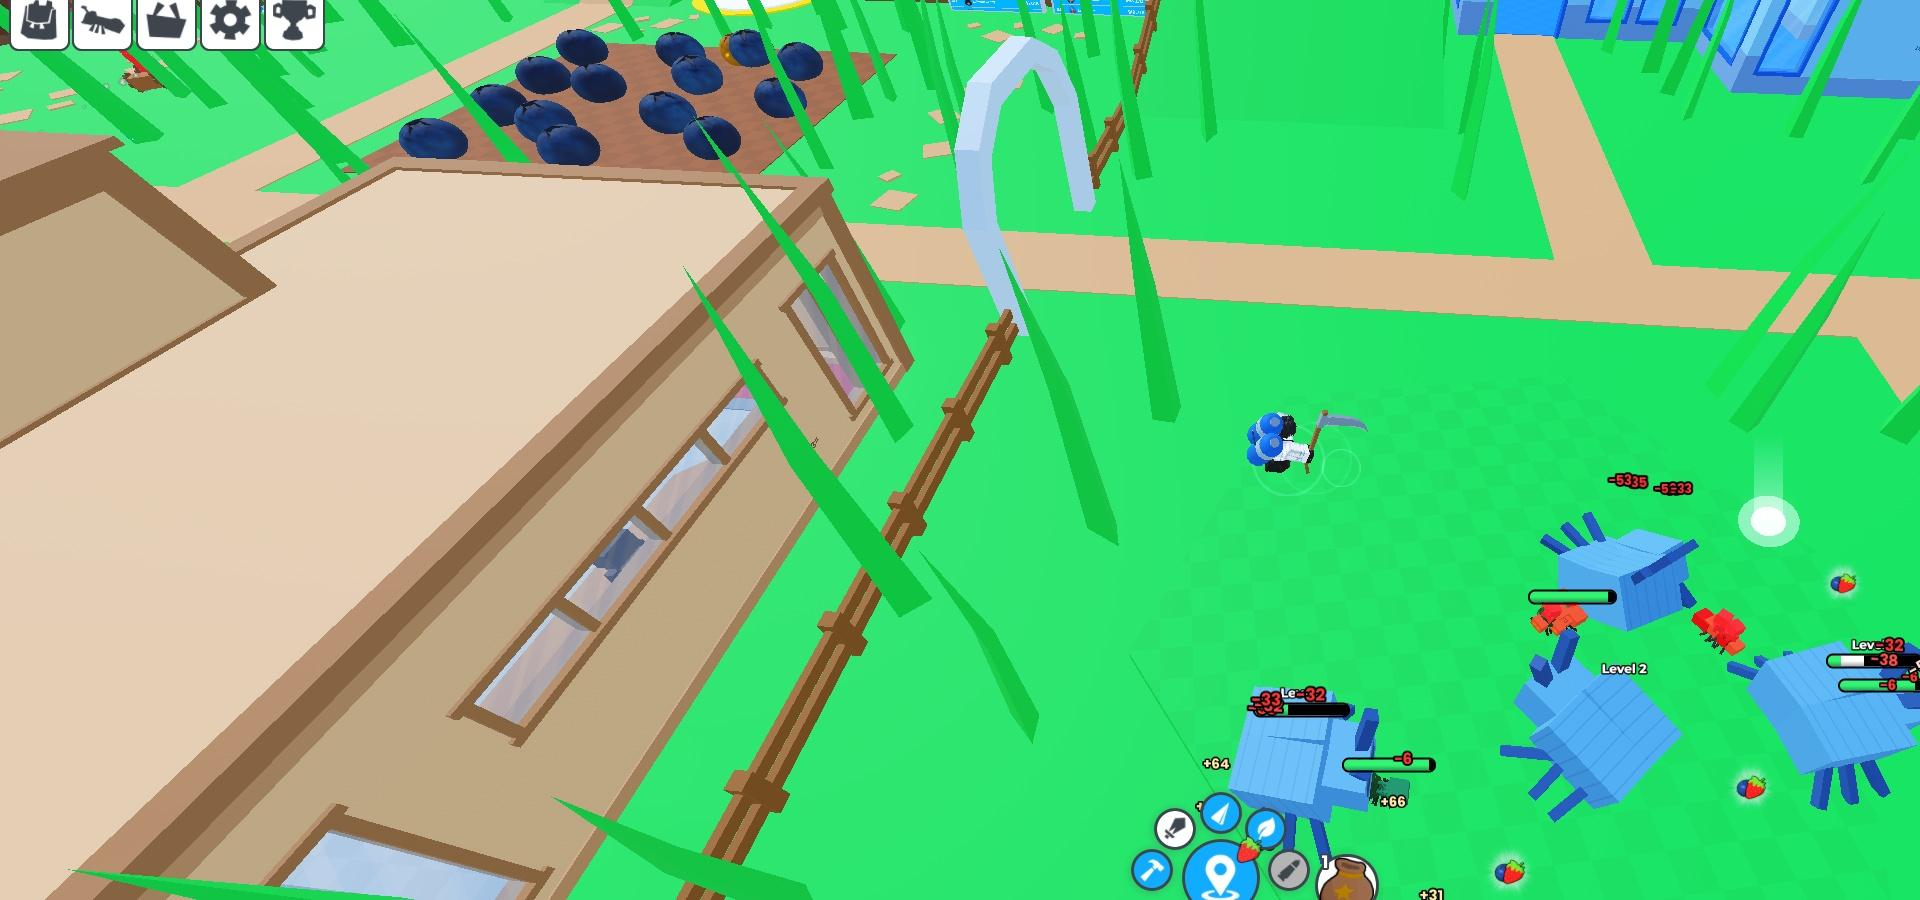Enemy: (1739, 636, 1920, 787), (1511, 659, 1682, 818), (1227, 692, 1379, 836), (1555, 524, 1698, 632)
